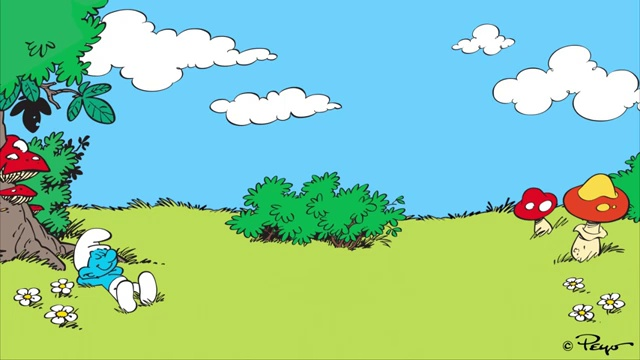smurf: (73, 226, 159, 314)
